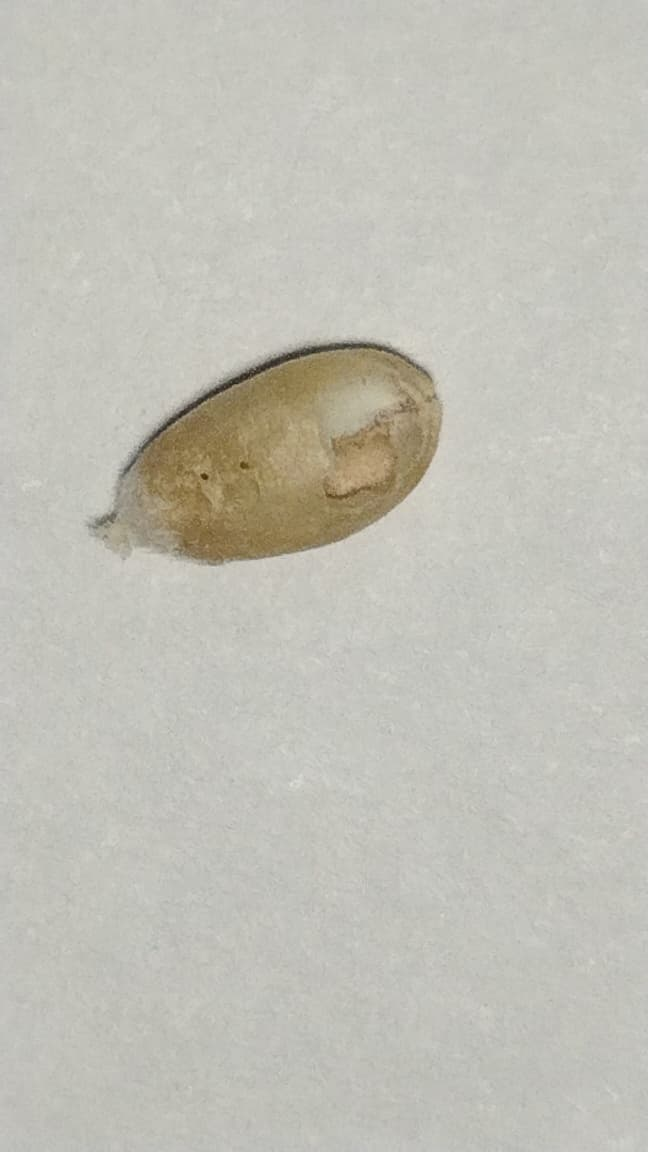damage: (88, 345, 442, 564)
insectdamage: (309, 380, 420, 506)
